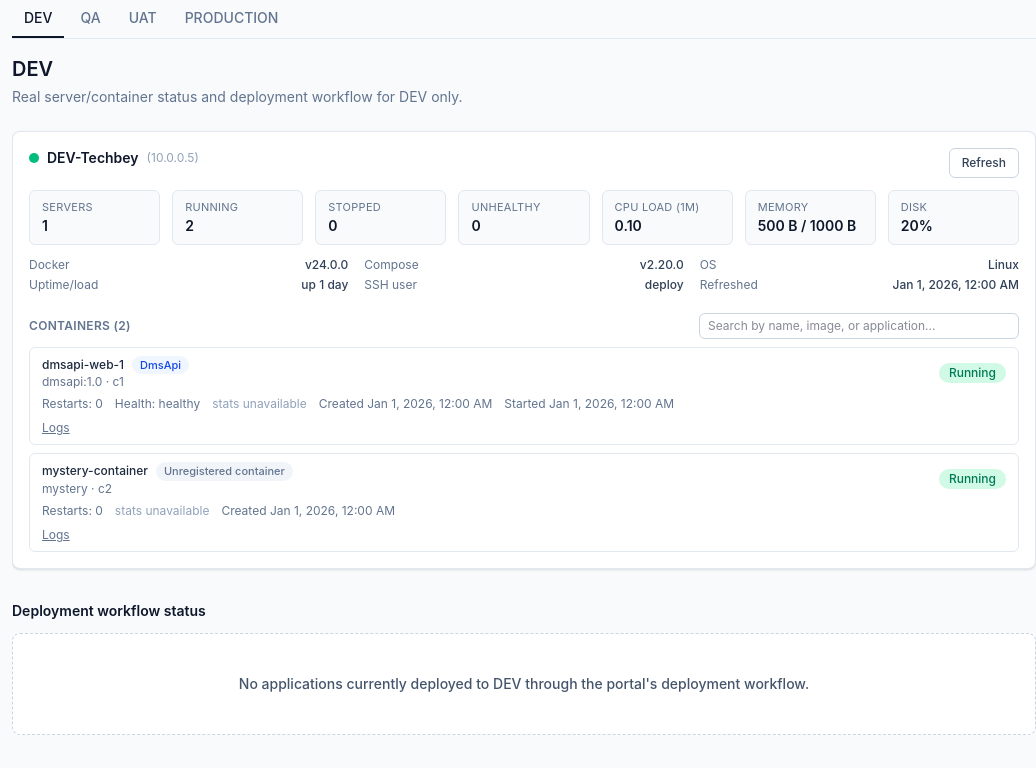
Test: EnvironmentDashboardPage — Environment Infrastructure Dashboard › filters the container list by name/image/application via the search box
Check: the text "dmsapi-web-1" is shown, box [42, 357, 124, 373]
Check: the text "mystery-container" is shown, box [42, 464, 148, 480]
Type "mystery" into the search field with placeholder "Search by name, image, or application…" at (859, 326), box [699, 312, 1019, 338]
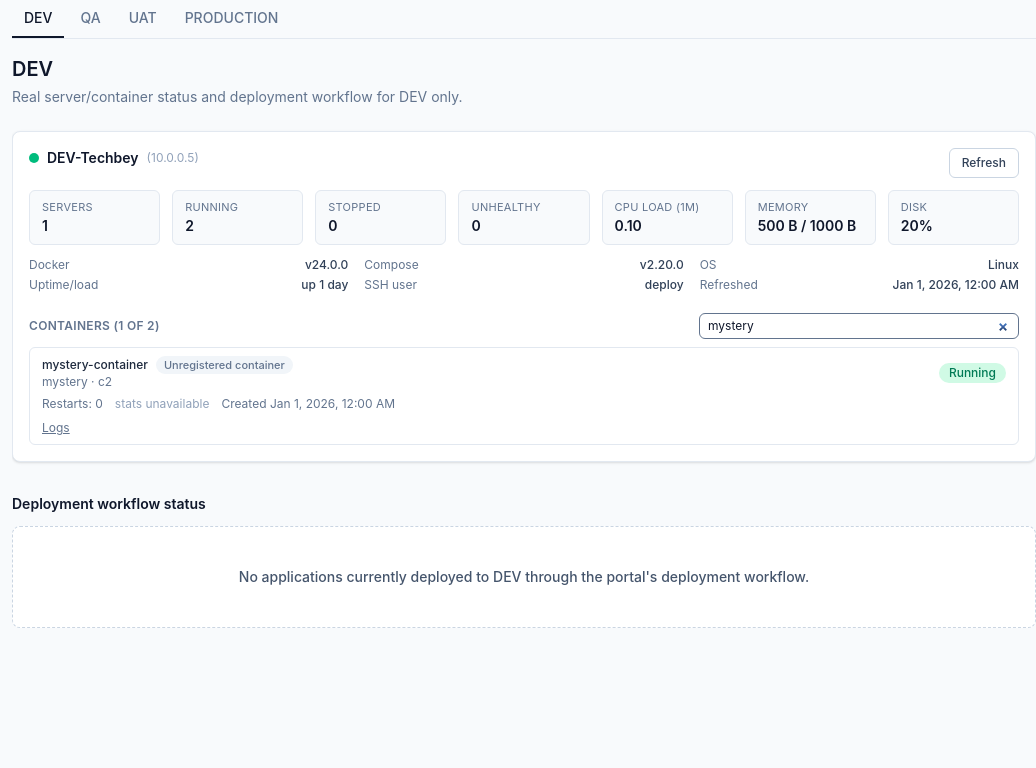
Check: the text "mystery-container" is shown, box [42, 357, 148, 373]
Check: the text "dmsapi-web-1" is gone
